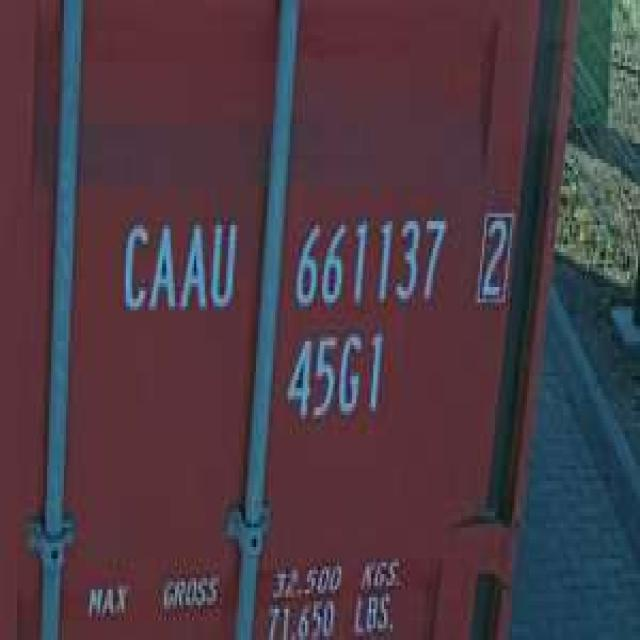dv: (472, 202, 516, 314)
owner: (113, 202, 241, 330)
serial: (286, 202, 452, 318)
size: (280, 322, 386, 430)
